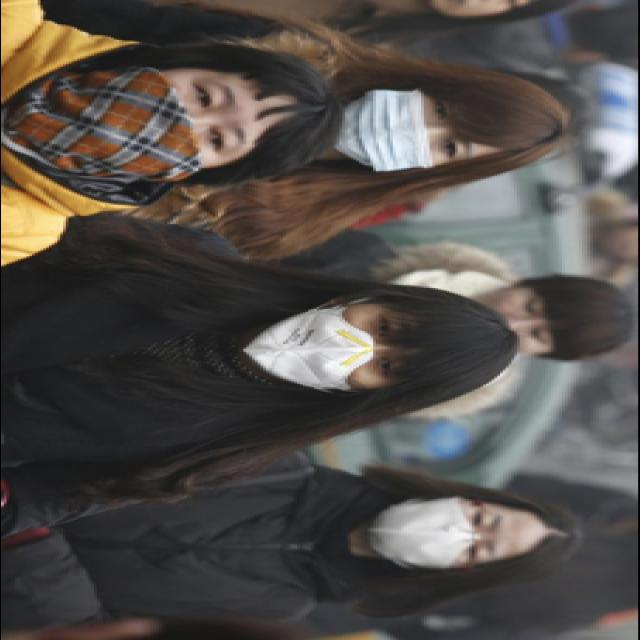with_mask: (28, 62, 256, 172), (248, 301, 423, 392), (327, 85, 482, 176), (367, 496, 508, 571)
without_mask: (473, 290, 552, 352)
